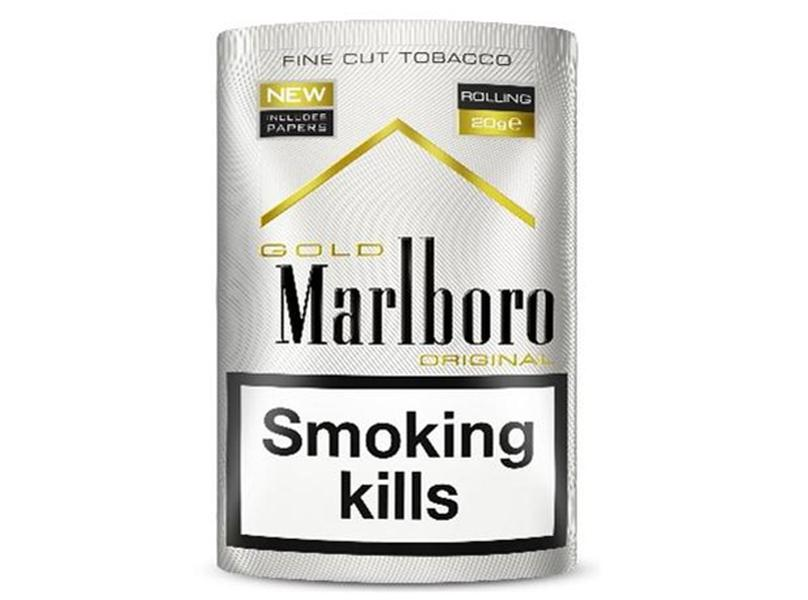marlboro_gold: (225, 25, 569, 555)
